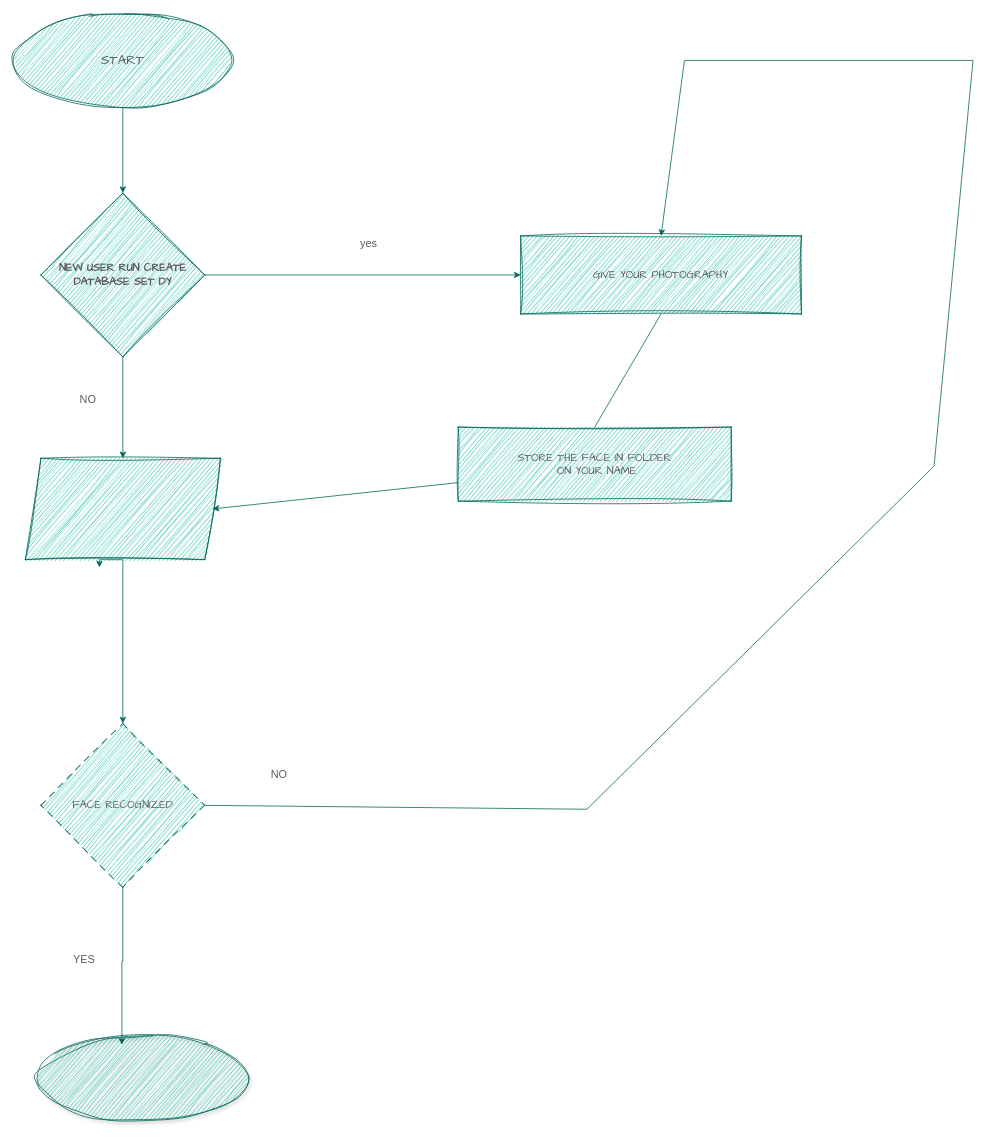
Image size: 993x1140. Some labels were removed from this diagram. The shapes that lost their labels are listed below. From the top down, each one's centre as x and y in pixels, then its label:
the point at 122,508: RECOGNIZE THE FACE RUN FACE_RECOGNITION DY
the point at 142,1079: END
